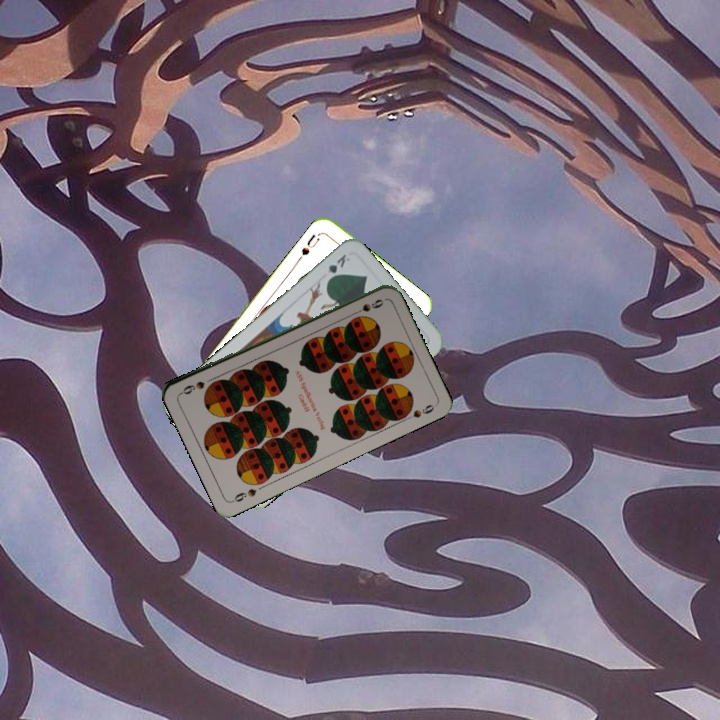GK: (321, 250, 353, 285)
S9: (348, 295, 386, 318), (228, 484, 259, 505)
SU: (297, 230, 322, 258)
